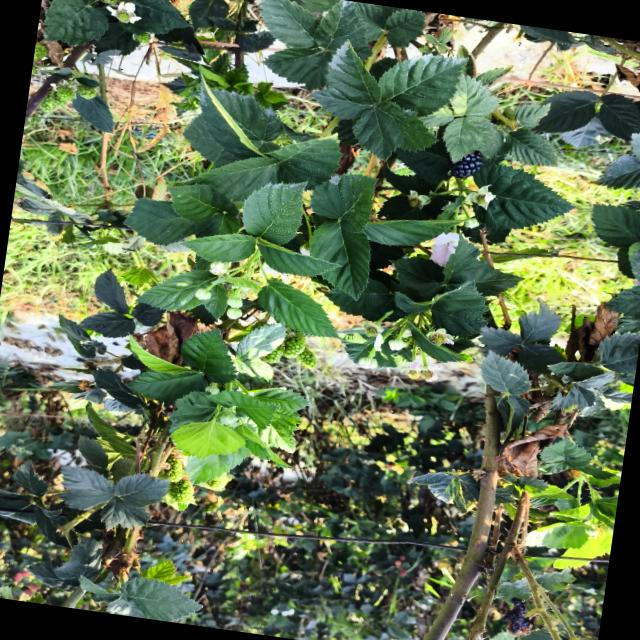boton: (209, 262, 229, 275), (357, 357, 377, 369), (388, 339, 407, 351), (227, 308, 242, 320), (194, 289, 210, 300), (227, 297, 242, 308)
maduro: (450, 151, 483, 178)
verde: (169, 479, 194, 505), (160, 455, 184, 482), (284, 337, 306, 358), (297, 349, 316, 369), (263, 346, 283, 363)
